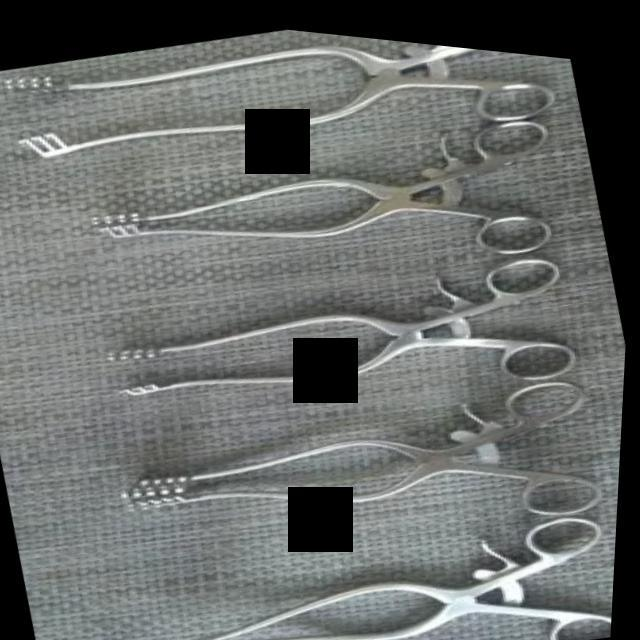Self Retractor: (109, 319, 627, 616), (59, 61, 574, 353), (78, 197, 600, 478), (0, 0, 564, 235), (131, 457, 622, 640)
